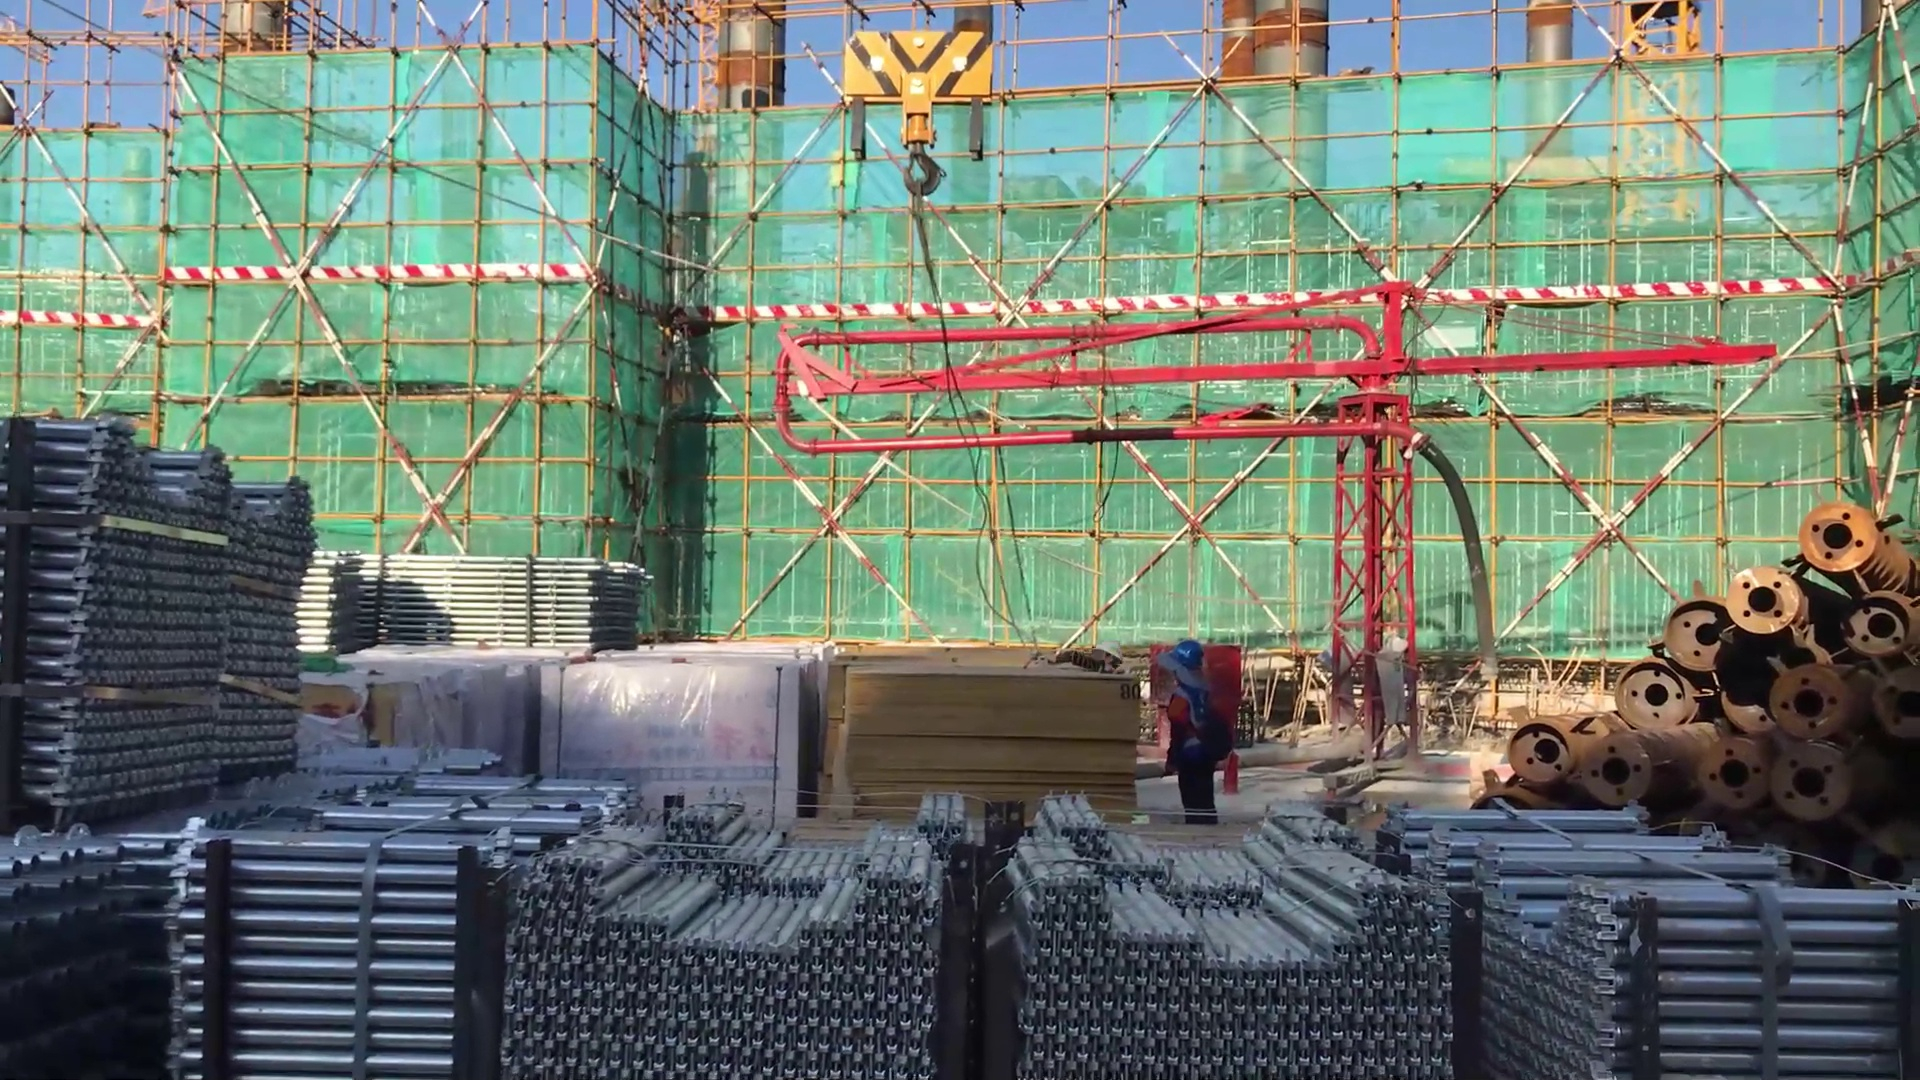board: (820, 654, 1137, 826)
helmet: (1161, 638, 1206, 681)
hook: (816, 30, 1011, 223)
person: (1151, 631, 1238, 842)
scaffold: (1, 714, 613, 1079), (519, 776, 1030, 1073), (1394, 796, 1898, 1080), (1008, 801, 1451, 1080), (13, 419, 323, 813), (293, 542, 652, 655)
vest: (1164, 681, 1229, 784)
